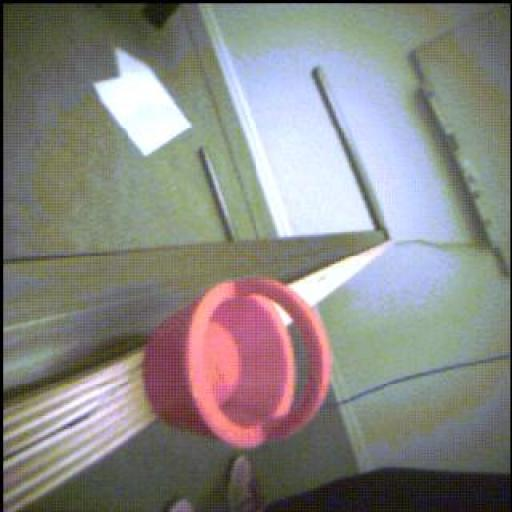Bucket: (154, 273, 330, 449)
